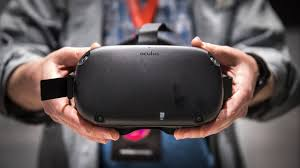oculus: (71, 44, 234, 133)
